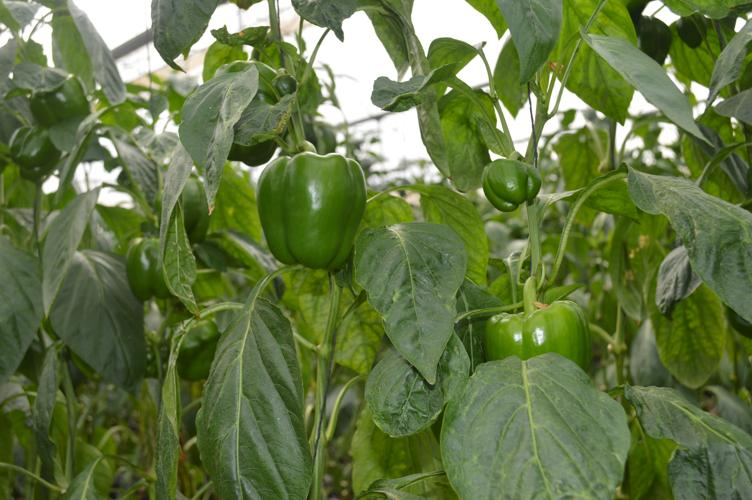BellPepper: (253, 152, 365, 269), (485, 300, 589, 369), (218, 89, 281, 168), (476, 159, 542, 219), (126, 240, 182, 302), (166, 318, 220, 379), (30, 72, 91, 124), (166, 176, 210, 244), (7, 126, 58, 176)
